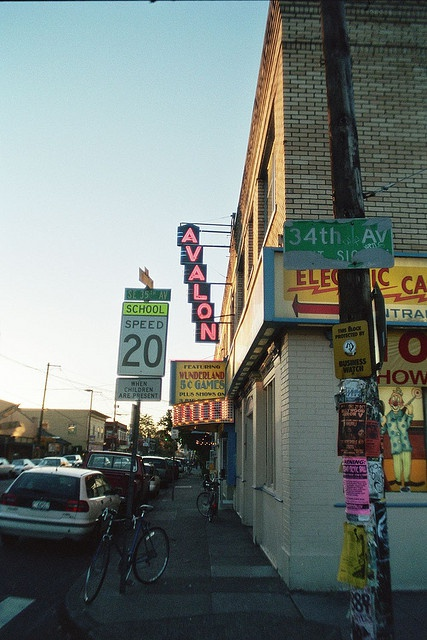non-vehicle: (85, 503, 168, 600), (195, 480, 220, 522)
